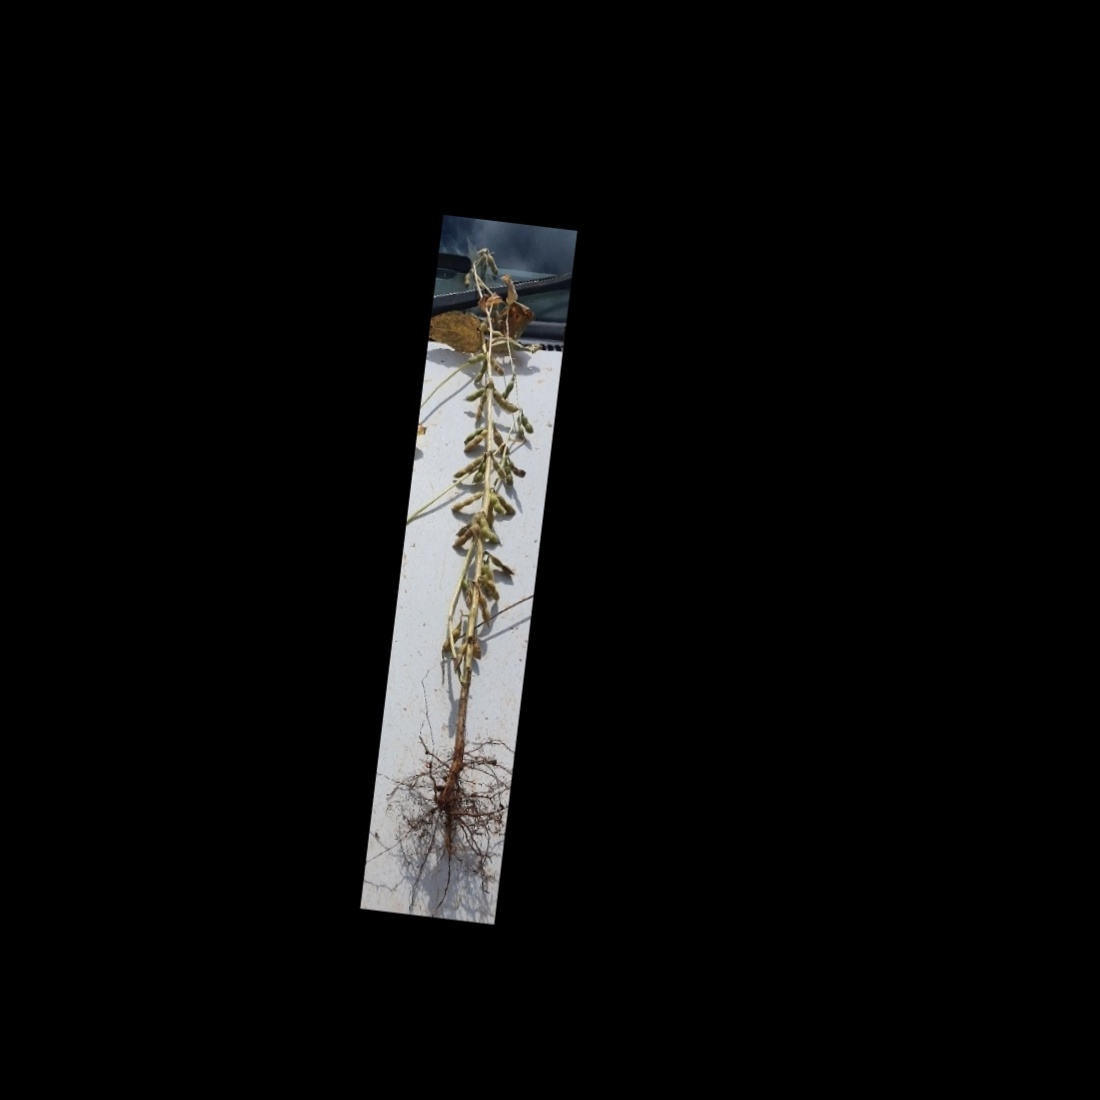pod: (437, 617, 464, 656), (452, 453, 482, 482), (451, 487, 483, 513), (490, 553, 519, 577), (474, 594, 494, 631), (485, 492, 508, 519), (477, 526, 503, 544), (488, 457, 506, 482), (471, 459, 487, 485), (500, 463, 516, 486), (519, 415, 536, 434)
soy: (379, 239, 558, 832)
